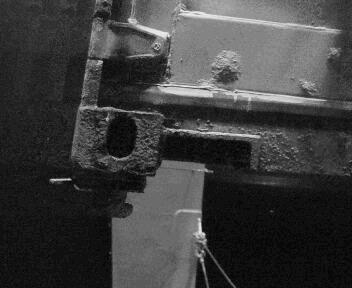twist_lock_1: (64, 171, 151, 222)
